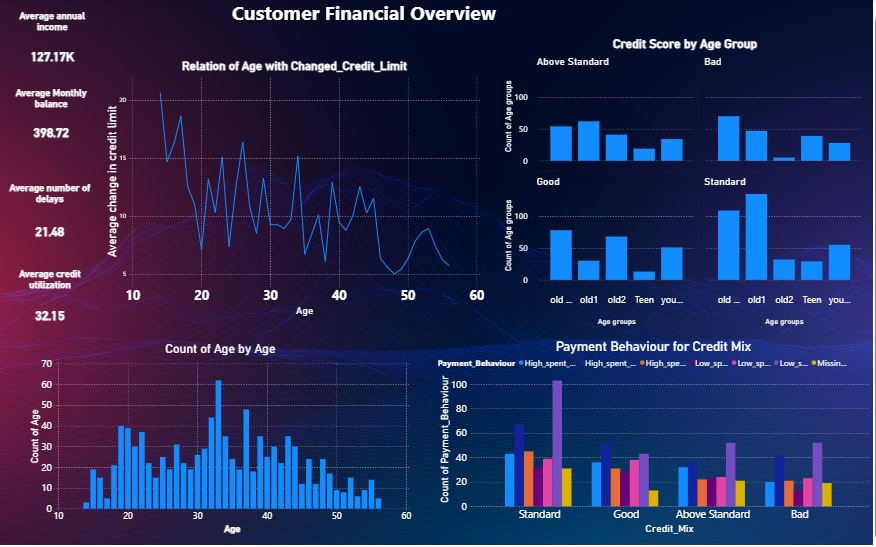

Layout of this report page (visuals, bound fields, positions):
{"tool":"powerbi","page":{"name":"Page 1","canvas":[2700,1700],"ordinal":0},"visuals":[{"type":"card","title":"Average annual income","fields":{"Values":["Avg(Sheet1.Annual_Income)"]},"box":[40,60,250,210],"z":0},{"type":"card","title":"Average Monthly balance","fields":{"Values":["Avg(Sheet1.Monthly_Balance)"]},"box":[20,293.3,280,203.3],"z":1000},{"type":"card","title":"Average number of delays","fields":{"Values":["Avg(Sheet1.Delay_from_due_date)"]},"box":[21.5,580.6,271.5,225.8],"z":2000},{"type":"card","title":"Average credit utilization","fields":{"Values":["Avg(Sheet1.Credit_Utilization_Ratio)"]},"box":[23.3,843.3,266.7,213.3],"z":3000},{"type":"lineChart","title":"Relation of Age with Changed_Credit_Limit","fields":{"Category":["Sheet1.Age"],"Y":["Avg(Sheet1.Changed_Credit_Limit)"]},"box":[318.2,209.1,1160.6,784.8],"z":4000},{"type":"clusteredColumnChart","fields":{"Category":["Sheet1.Age"],"Y":["CountNonNull(Sheet1.Age)"]},"box":[89.3,1064.3,1171.4,589.3],"z":5000},{"type":"clusteredColumnChart","title":"Payment Behaviour for Credit Mix ","fields":{"Category":["Sheet1.Credit_Mix"],"Series":["Sheet1.Payment_Behaviour"],"Y":["CountNonNull(Sheet1.Payment_Behaviour)"]},"box":[1328.6,1057.1,1317.9,596.4],"z":6000},{"type":"clusteredColumnChart","title":"Credit Score by Age Group","fields":{"Category":["Sheet1.Age groups"],"Y":["CountNonNull(Sheet1.Age groups)"],"Rows":["Sheet1.Credit_Mix"]},"box":[1527.3,139.4,1109.1,884.8],"z":7000},{"type":"textbox","box":[675.8,24.2,866.7,115.2],"z":8000}]}

Visuals, with their boxes in screenshot pixels (x1, y1, x2, y2), scaled from the page's 2700x1700 canvas onto the 876x547 screenshot:
"Average annual income" card: {"left": 13, "top": 19, "right": 94, "bottom": 87}
"Average Monthly balance" card: {"left": 6, "top": 94, "right": 97, "bottom": 160}
"Average number of delays" card: {"left": 7, "top": 187, "right": 95, "bottom": 259}
"Average credit utilization" card: {"left": 8, "top": 271, "right": 94, "bottom": 340}
"Relation of Age with Changed_Credit_Limit" lineChart: {"left": 103, "top": 67, "right": 480, "bottom": 320}
clusteredColumnChart - Sheet1.Age x CountNonNull(Sheet1.Age): {"left": 29, "top": 342, "right": 409, "bottom": 532}
"Payment Behaviour for Credit Mix " clusteredColumnChart: {"left": 431, "top": 340, "right": 859, "bottom": 532}
"Credit Score by Age Group" clusteredColumnChart: {"left": 496, "top": 45, "right": 855, "bottom": 330}
textbox: {"left": 219, "top": 8, "right": 500, "bottom": 45}
